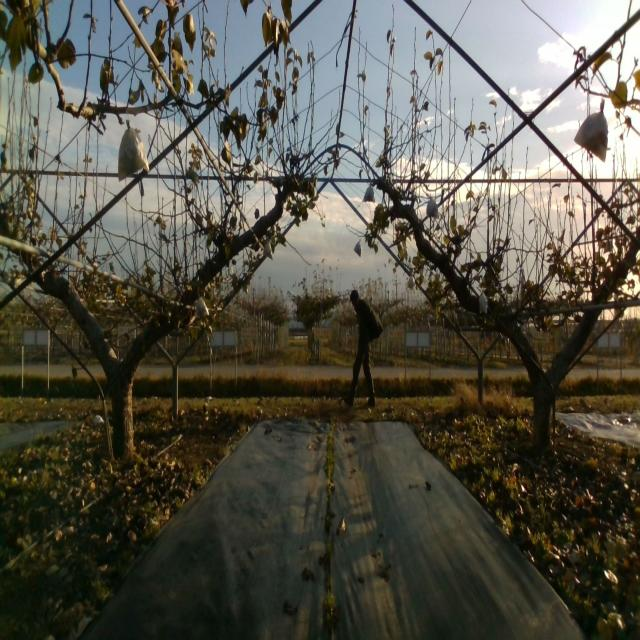pearbags: (343, 288, 384, 410), (573, 100, 608, 160), (117, 127, 150, 182), (426, 195, 439, 221), (195, 297, 210, 318), (362, 185, 376, 203), (478, 291, 488, 313)
